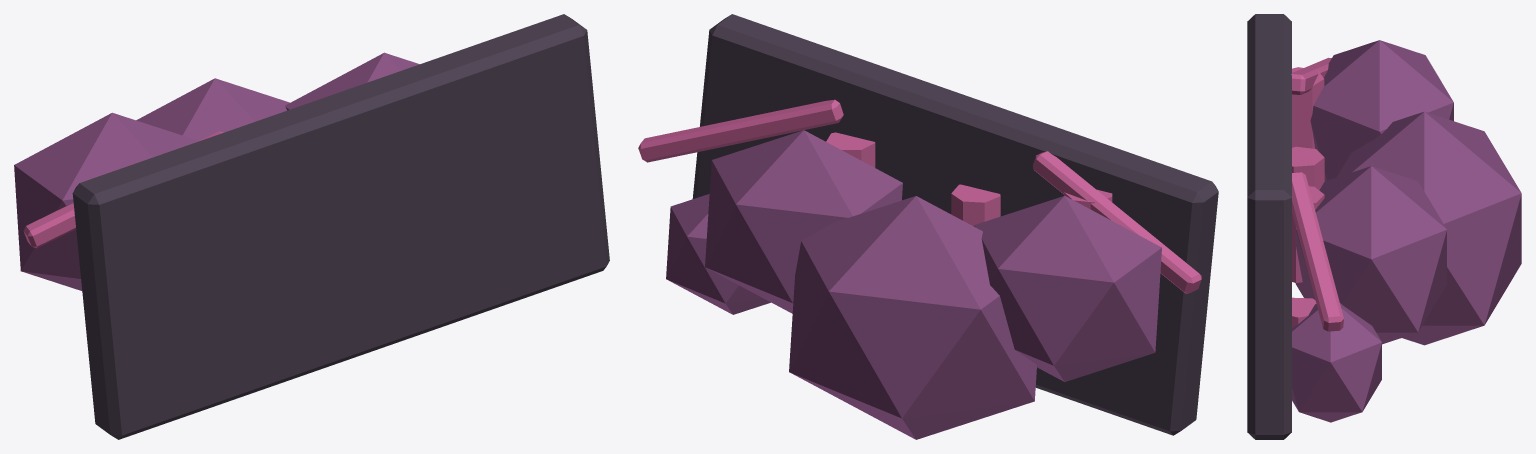
The model's file is HiveGrowth.fbx.
3 renders of one model, left to right at view 1: azimuth 30°, elevation 25°; view 2: azimuth 150°, elevation 25°; view 3: azimuth 270°, elevation 25°, orthographic. The views are drawn at different scales.
Parts seen in each view (by area): view 1: HiveMat, HivePod, HivePod.001, HivePod.002, HiveTendril; view 2: HiveMat, HivePod.001, HivePod, HivePod.002, HivePod.003, HiveTendril.001, HiveTendril, HiveStem.001, HiveStem.002; view 3: HivePod.001, HiveMat, HivePod.002, HivePod, HivePod.003, HiveTendril.001, HiveStem, HiveStem.001, HiveTendril, HiveStem.002, HiveStem.003.
Part boxes in pixels (left/top/right/bottom): HiveMat: left=72, top=14, right=609, bottom=439; HivePod: left=14, top=112, right=198, bottom=290; HivePod.001: left=136, top=78, right=289, bottom=140; HivePod.002: left=285, top=52, right=419, bottom=110; HiveTendril: left=23, top=131, right=223, bottom=248; HiveMat: left=692, top=14, right=1218, bottom=435; HivePod.001: left=789, top=196, right=1036, bottom=439; HivePod: left=974, top=195, right=1161, bottom=381; HivePod.002: left=705, top=130, right=902, bottom=313; HivePod.003: left=666, top=194, right=770, bottom=314; HiveTendril.001: left=638, top=99, right=843, bottom=162; HiveTendril: left=1033, top=151, right=1201, bottom=293; HiveStem.001: left=951, top=184, right=1000, bottom=226; HiveStem.002: left=826, top=132, right=875, bottom=167; HivePod.001: left=1337, top=111, right=1521, bottom=345; HiveMat: left=1247, top=14, right=1291, bottom=439; HivePod.002: left=1295, top=166, right=1446, bottom=344; HivePod: left=1310, top=40, right=1453, bottom=181; HivePod.003: left=1292, top=303, right=1381, bottom=422; HiveTendril.001: left=1292, top=172, right=1343, bottom=331; HiveStem: left=1292, top=67, right=1324, bottom=148; HiveStem.001: left=1292, top=146, right=1324, bottom=189; HiveTendril: left=1291, top=57, right=1331, bottom=94; HiveStem.002: left=1292, top=186, right=1324, bottom=282; HiveStem.003: left=1292, top=297, right=1316, bottom=327.
Bounding box in the file's own units: 304 × 156 × 135.
